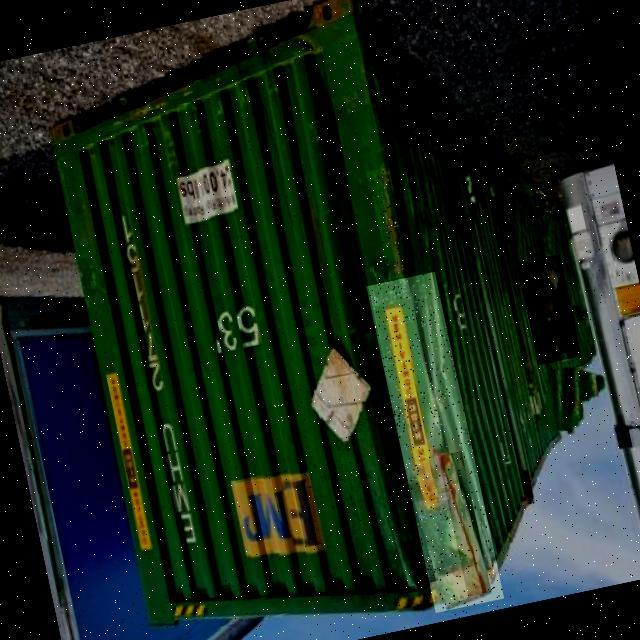Deframe: (366, 271, 504, 612)
Hole: (517, 254, 582, 365)
Minor-Dent: (531, 186, 552, 217), (296, 38, 313, 55), (571, 302, 586, 321)
Rust: (436, 451, 491, 597), (366, 167, 408, 279), (522, 469, 535, 504)
